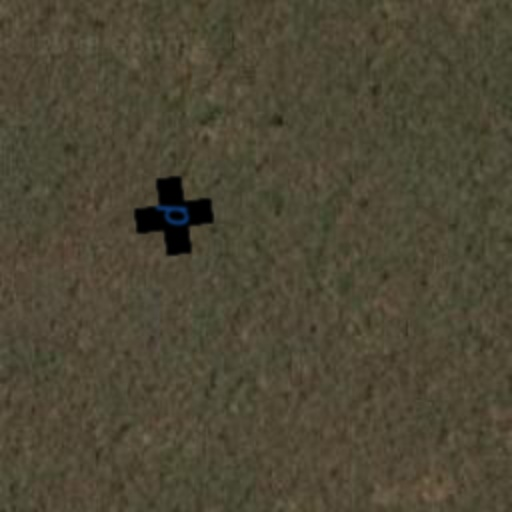cross: (128, 170, 220, 262)
